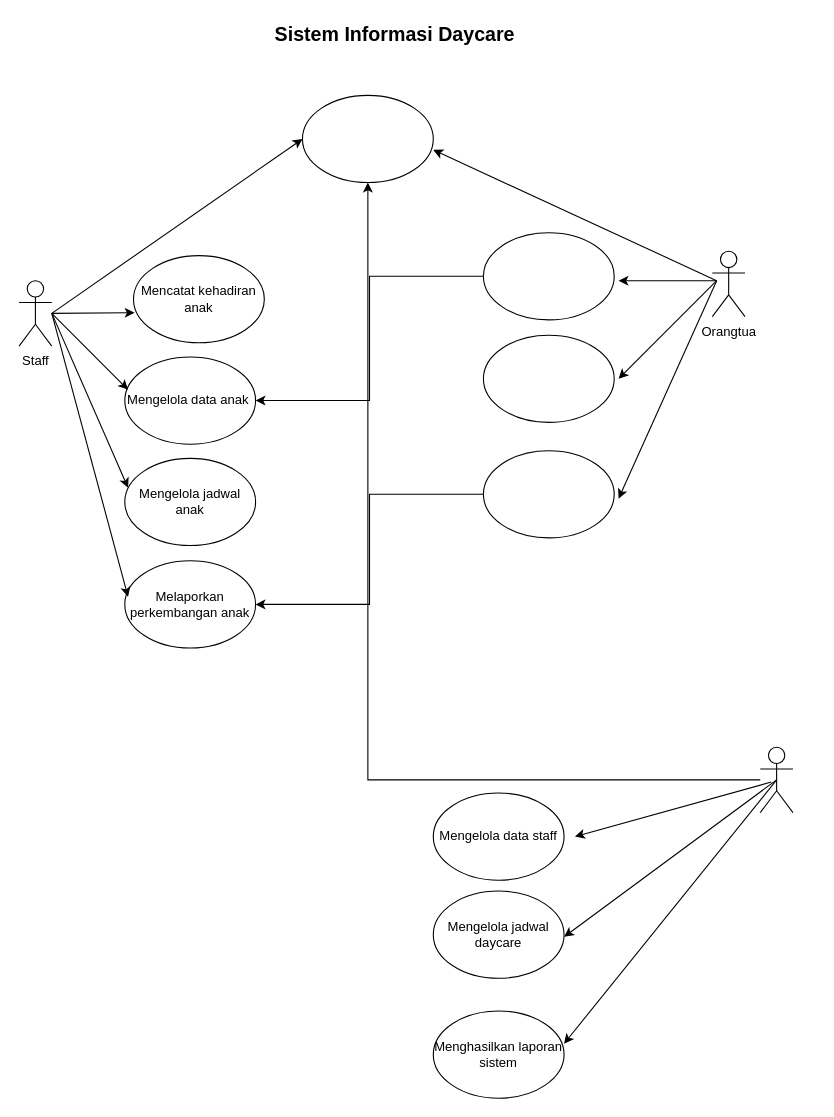
This 834x1117 diagram has some shape labels left out. The shapes that lost their labels are listed below. From the top down, each one's centre as x and y in pixels, then its label:
[367,138]: Register
[548,276]: Mendaftar anak ke daycare
[548,378]: Membayar biaya daycare
[548,494]: Melihat laporan perkembangan anak
[776,779]: Administrator
